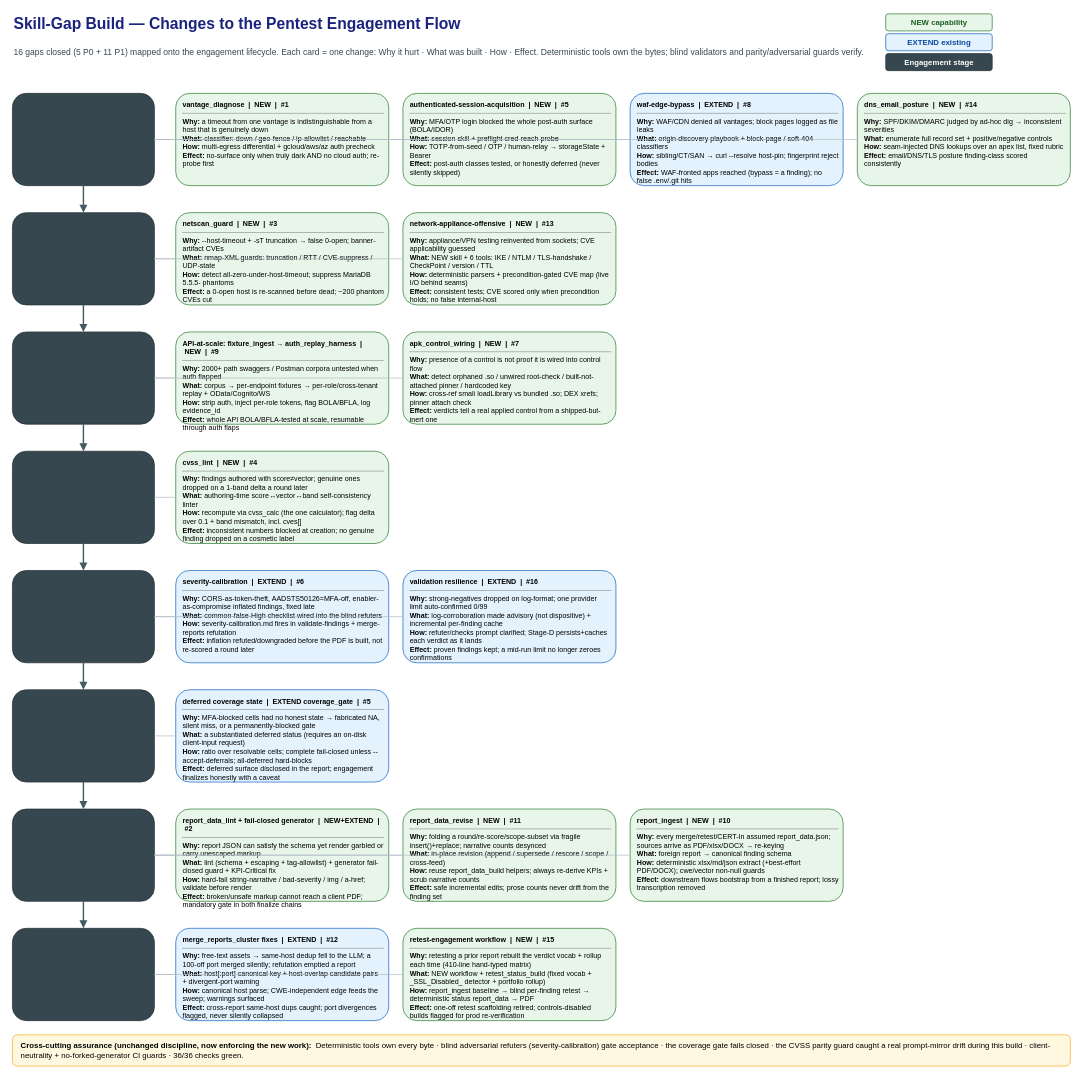
Image size: 1083x1078. Some labels were removed from this diagram. Each missing label, with the centre of its shape:
"1 · PREFLIGHT / RECON" goes at (x=83, y=139).
"2 · SCAN (network)" goes at (x=83, y=258).
"3 · TEST (web / API / mobile)" goes at (x=83, y=377).
"4 · AUTHOR FINDING" goes at (x=83, y=497).
"5 · VALIDATE (blind, adversarial)" goes at (x=83, y=616).
"6 · COVERAGE GATE (100%)" goes at (x=83, y=735).
"7 · REPORT (Transilience PDF)" goes at (x=83, y=854).
"8 · MERGE / RETEST (downstream)" goes at (x=83, y=974).
